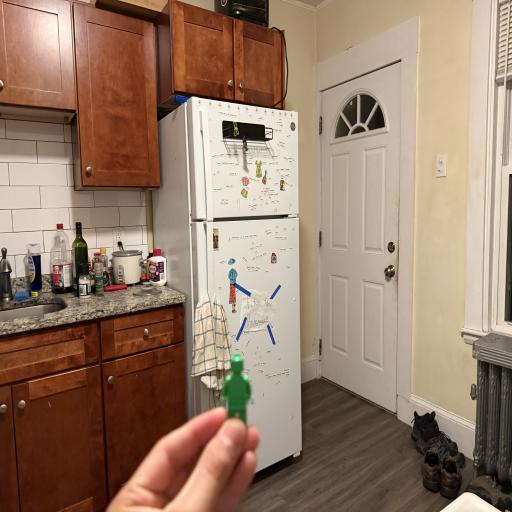Minifig: (220, 354, 253, 426)
